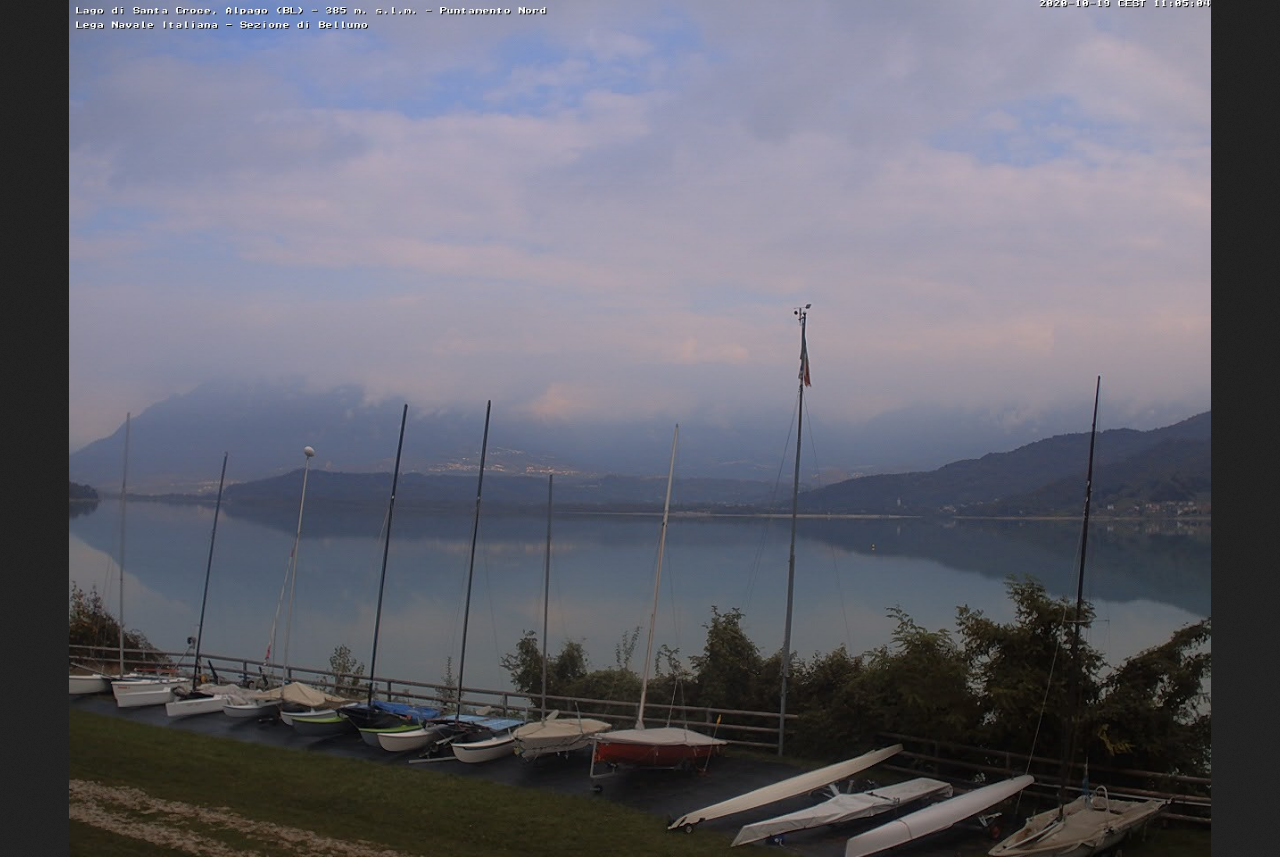no: (799, 315, 814, 385)
